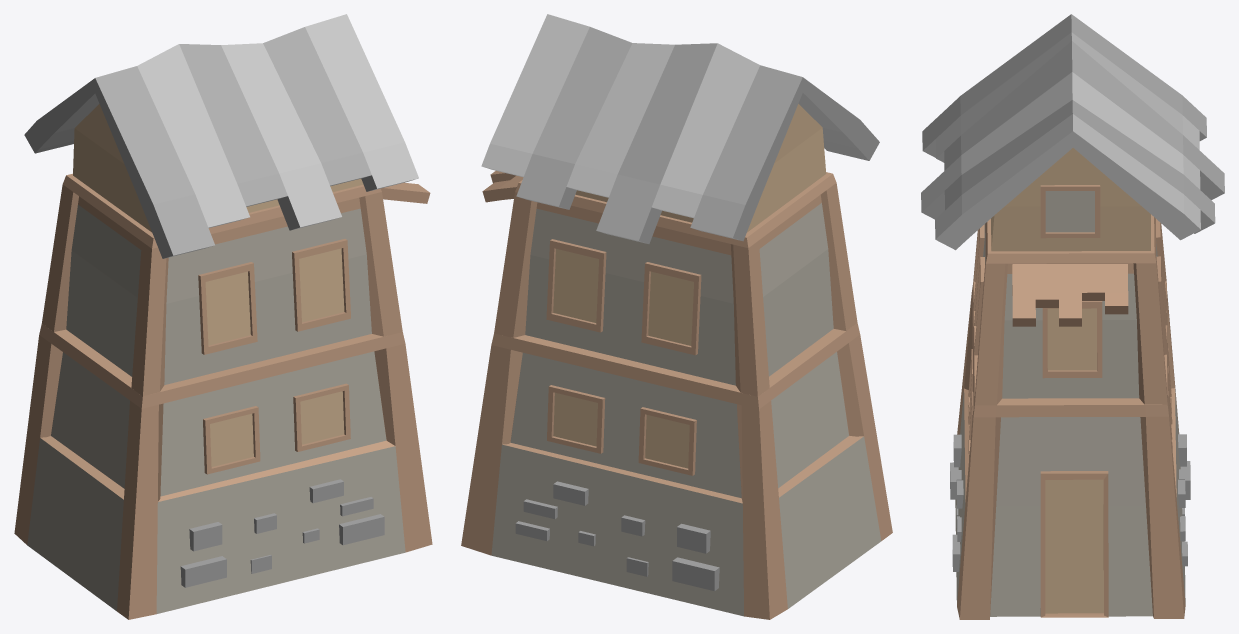
Rendered from house 02 ver 2.fbx.
3 views of the same model, side by side, from view 1: azimuth 30°, elevation 25°; view 2: azimuth 150°, elevation 25°; view 3: azimuth 270°, elevation 25° (orthographic). The views are drawn at different scales.
Visible parts, largest first — view 1: polySurface44, polySurface2, polySurface43, polySurface36, polySurface37, polySurface31, polySurface32, polySurface15, polySurface30, polySurface3, polySurface14, polySurface10; view 2: polySurface44, polySurface2, polySurface43, polySurface35, polySurface6, polySurface8, polySurface7, polySurface22, polySurface3, polySurface21, polySurface17; view 3: polySurface2, polySurface44, polySurface43, polySurface5, polySurface3, polySurface38, polySurface34, polySurface37, polySurface35, polySurface36, polySurface6.
Boxes of the visible parts, bbox=[...] form: polySurface44: bbox=[14, 323, 432, 619]; polySurface2: bbox=[24, 14, 418, 258]; polySurface43: bbox=[42, 173, 402, 396]; polySurface36: bbox=[198, 262, 257, 354]; polySurface37: bbox=[292, 239, 350, 331]; polySurface31: bbox=[293, 383, 350, 451]; polySurface32: bbox=[203, 406, 260, 474]; polySurface15: bbox=[180, 556, 226, 587]; polySurface30: bbox=[339, 514, 384, 545]; polySurface3: bbox=[381, 182, 430, 203]; polySurface14: bbox=[189, 522, 222, 551]; polySurface10: bbox=[309, 479, 343, 503]; polySurface44: bbox=[461, 323, 892, 619]; polySurface2: bbox=[481, 14, 879, 243]; polySurface43: bbox=[494, 172, 857, 396]; polySurface35: bbox=[546, 239, 606, 332]; polySurface6: bbox=[641, 262, 701, 355]; polySurface8: bbox=[638, 407, 696, 475]; polySurface7: bbox=[547, 385, 605, 453]; polySurface22: bbox=[672, 557, 719, 591]; polySurface3: bbox=[482, 171, 523, 202]; polySurface21: bbox=[677, 523, 710, 553]; polySurface17: bbox=[553, 481, 588, 505]; polySurface2: bbox=[921, 14, 1224, 251]; polySurface44: bbox=[955, 285, 1185, 619]; polySurface43: bbox=[973, 214, 1167, 405]; polySurface5: bbox=[1040, 471, 1108, 617]; polySurface3: bbox=[1012, 264, 1128, 326]; polySurface38: bbox=[1042, 301, 1102, 378]; polySurface34: bbox=[1040, 185, 1100, 238]; polySurface37: bbox=[973, 257, 984, 355]; polySurface35: bbox=[1156, 256, 1167, 354]; polySurface36: bbox=[973, 224, 984, 310]; polySurface6: bbox=[1156, 219, 1167, 310].
Size of the model in its own units: 4.52 by 6.56 by 3.71.
